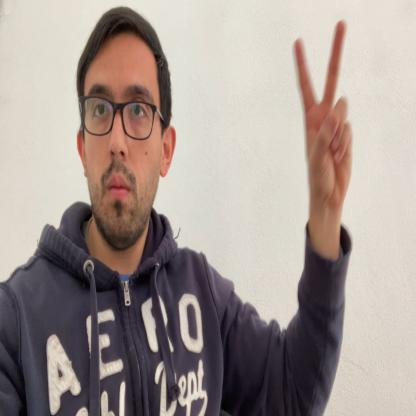V: (293, 20, 353, 224)
